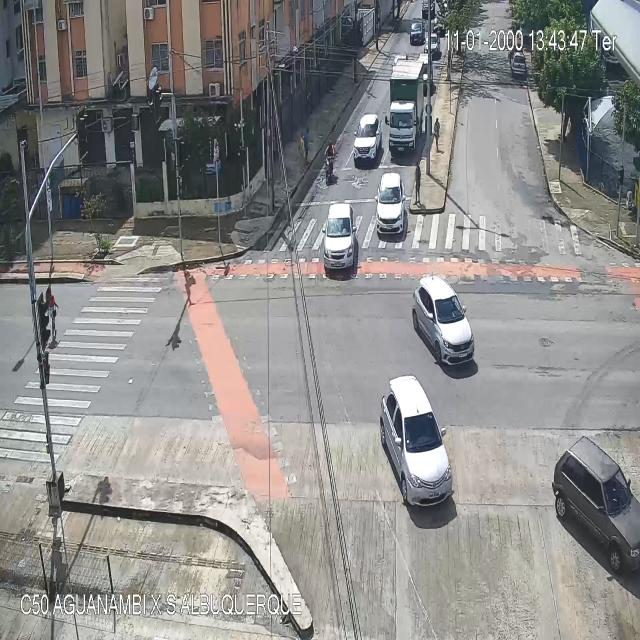Car: (552, 437, 640, 575), (379, 374, 453, 506), (410, 275, 475, 366), (321, 204, 358, 272), (375, 170, 407, 239), (353, 114, 383, 165), (419, 54, 434, 90), (426, 34, 440, 60), (410, 20, 424, 42), (512, 54, 526, 75), (434, 20, 446, 36)
Motorcycle: (324, 138, 336, 186)
Truck: (385, 59, 423, 153)
